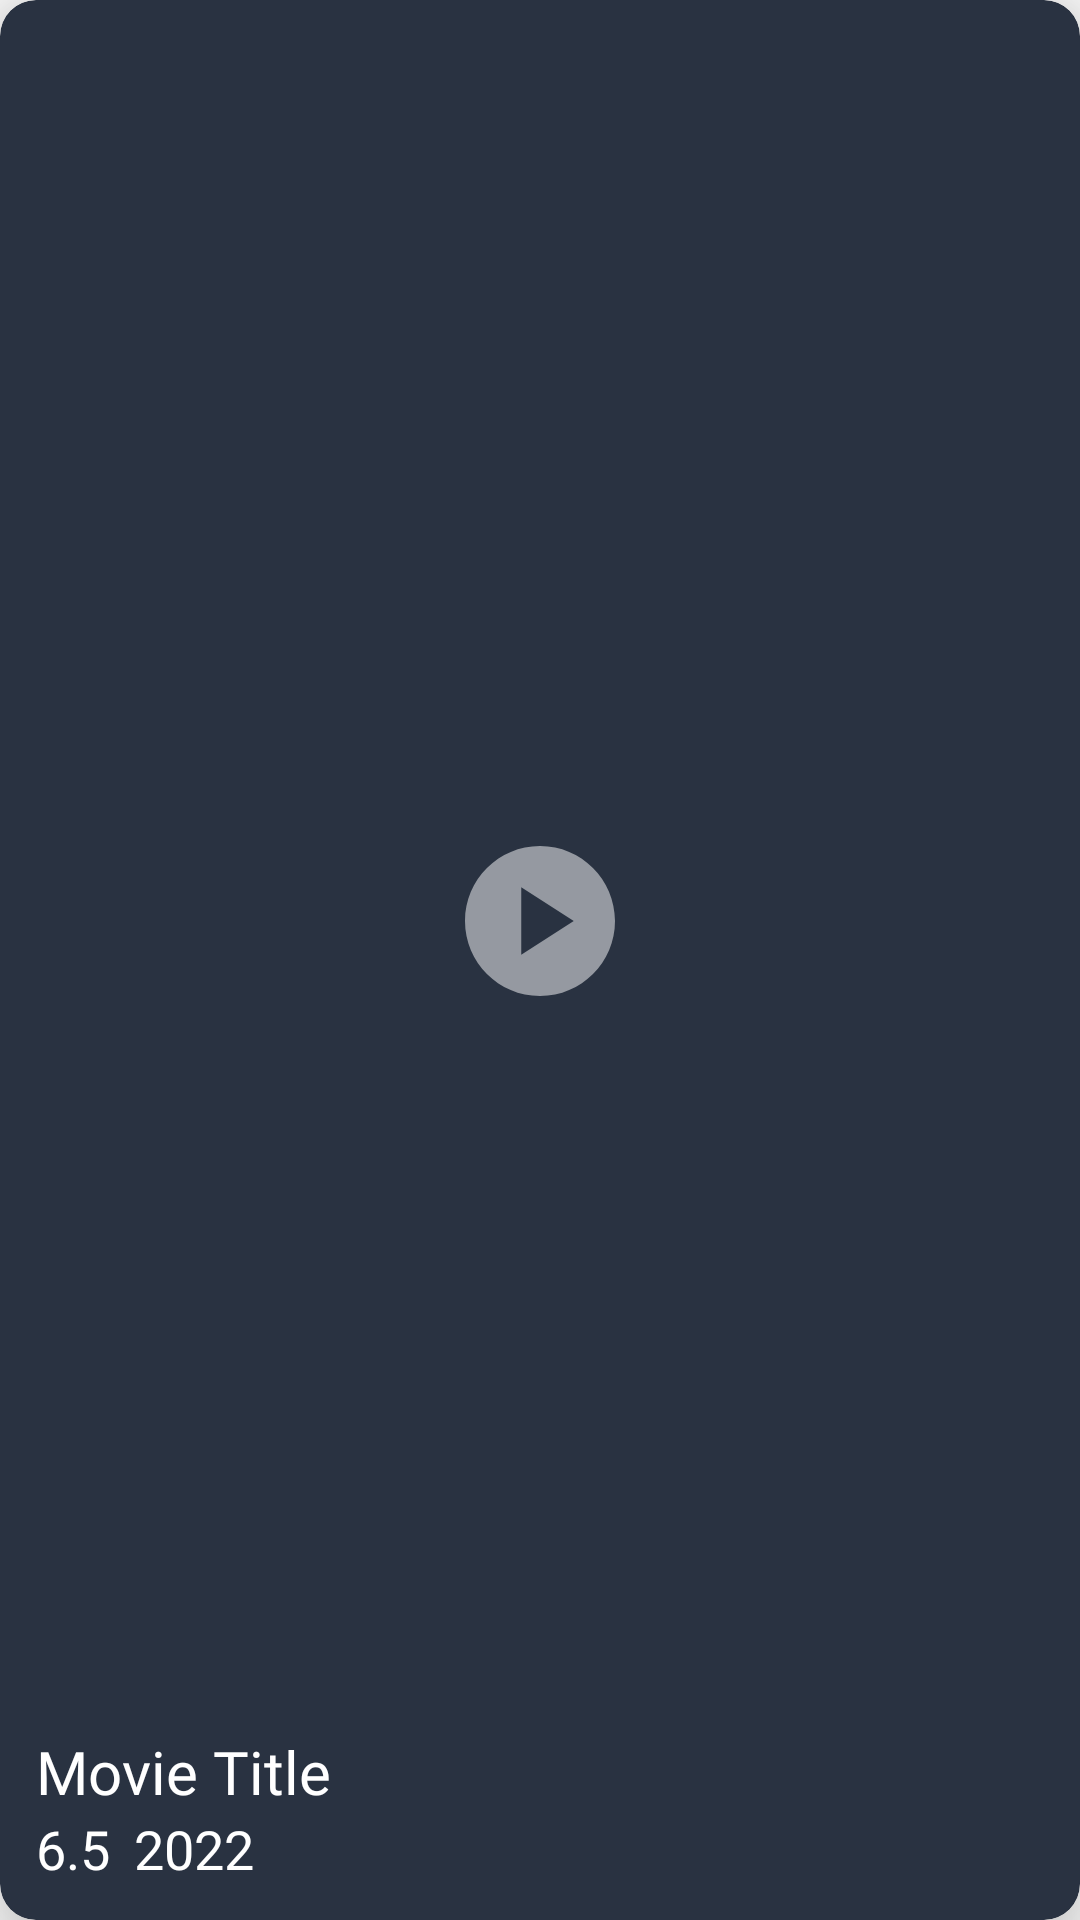

Screen size 1080*1920. Icon name, then its box in pixels as [x1, y1, x2, y2]:
Play: [465, 846, 615, 996]
